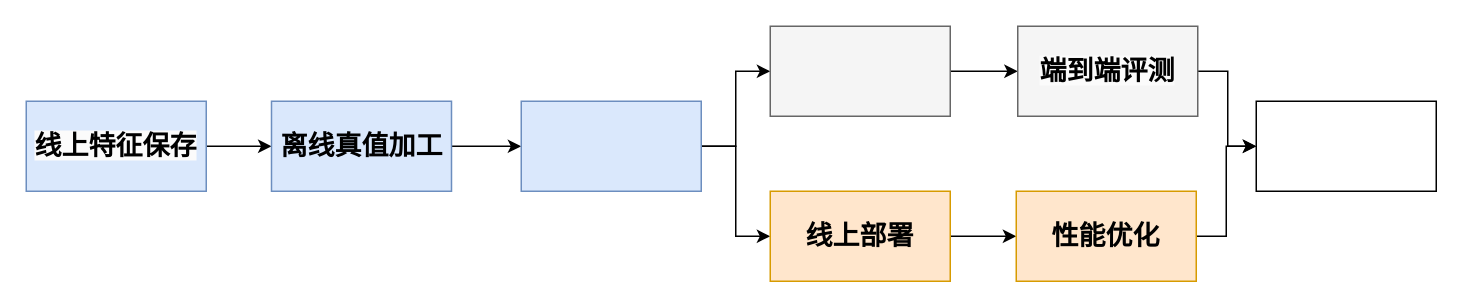
This 1463x308 diagram has some shape labels left out. The centre of each missing label's shape, as x and y in pixels:
上线: the point at 1345,145
关联评测: the point at 859,70
模型训练: the point at 610,145
